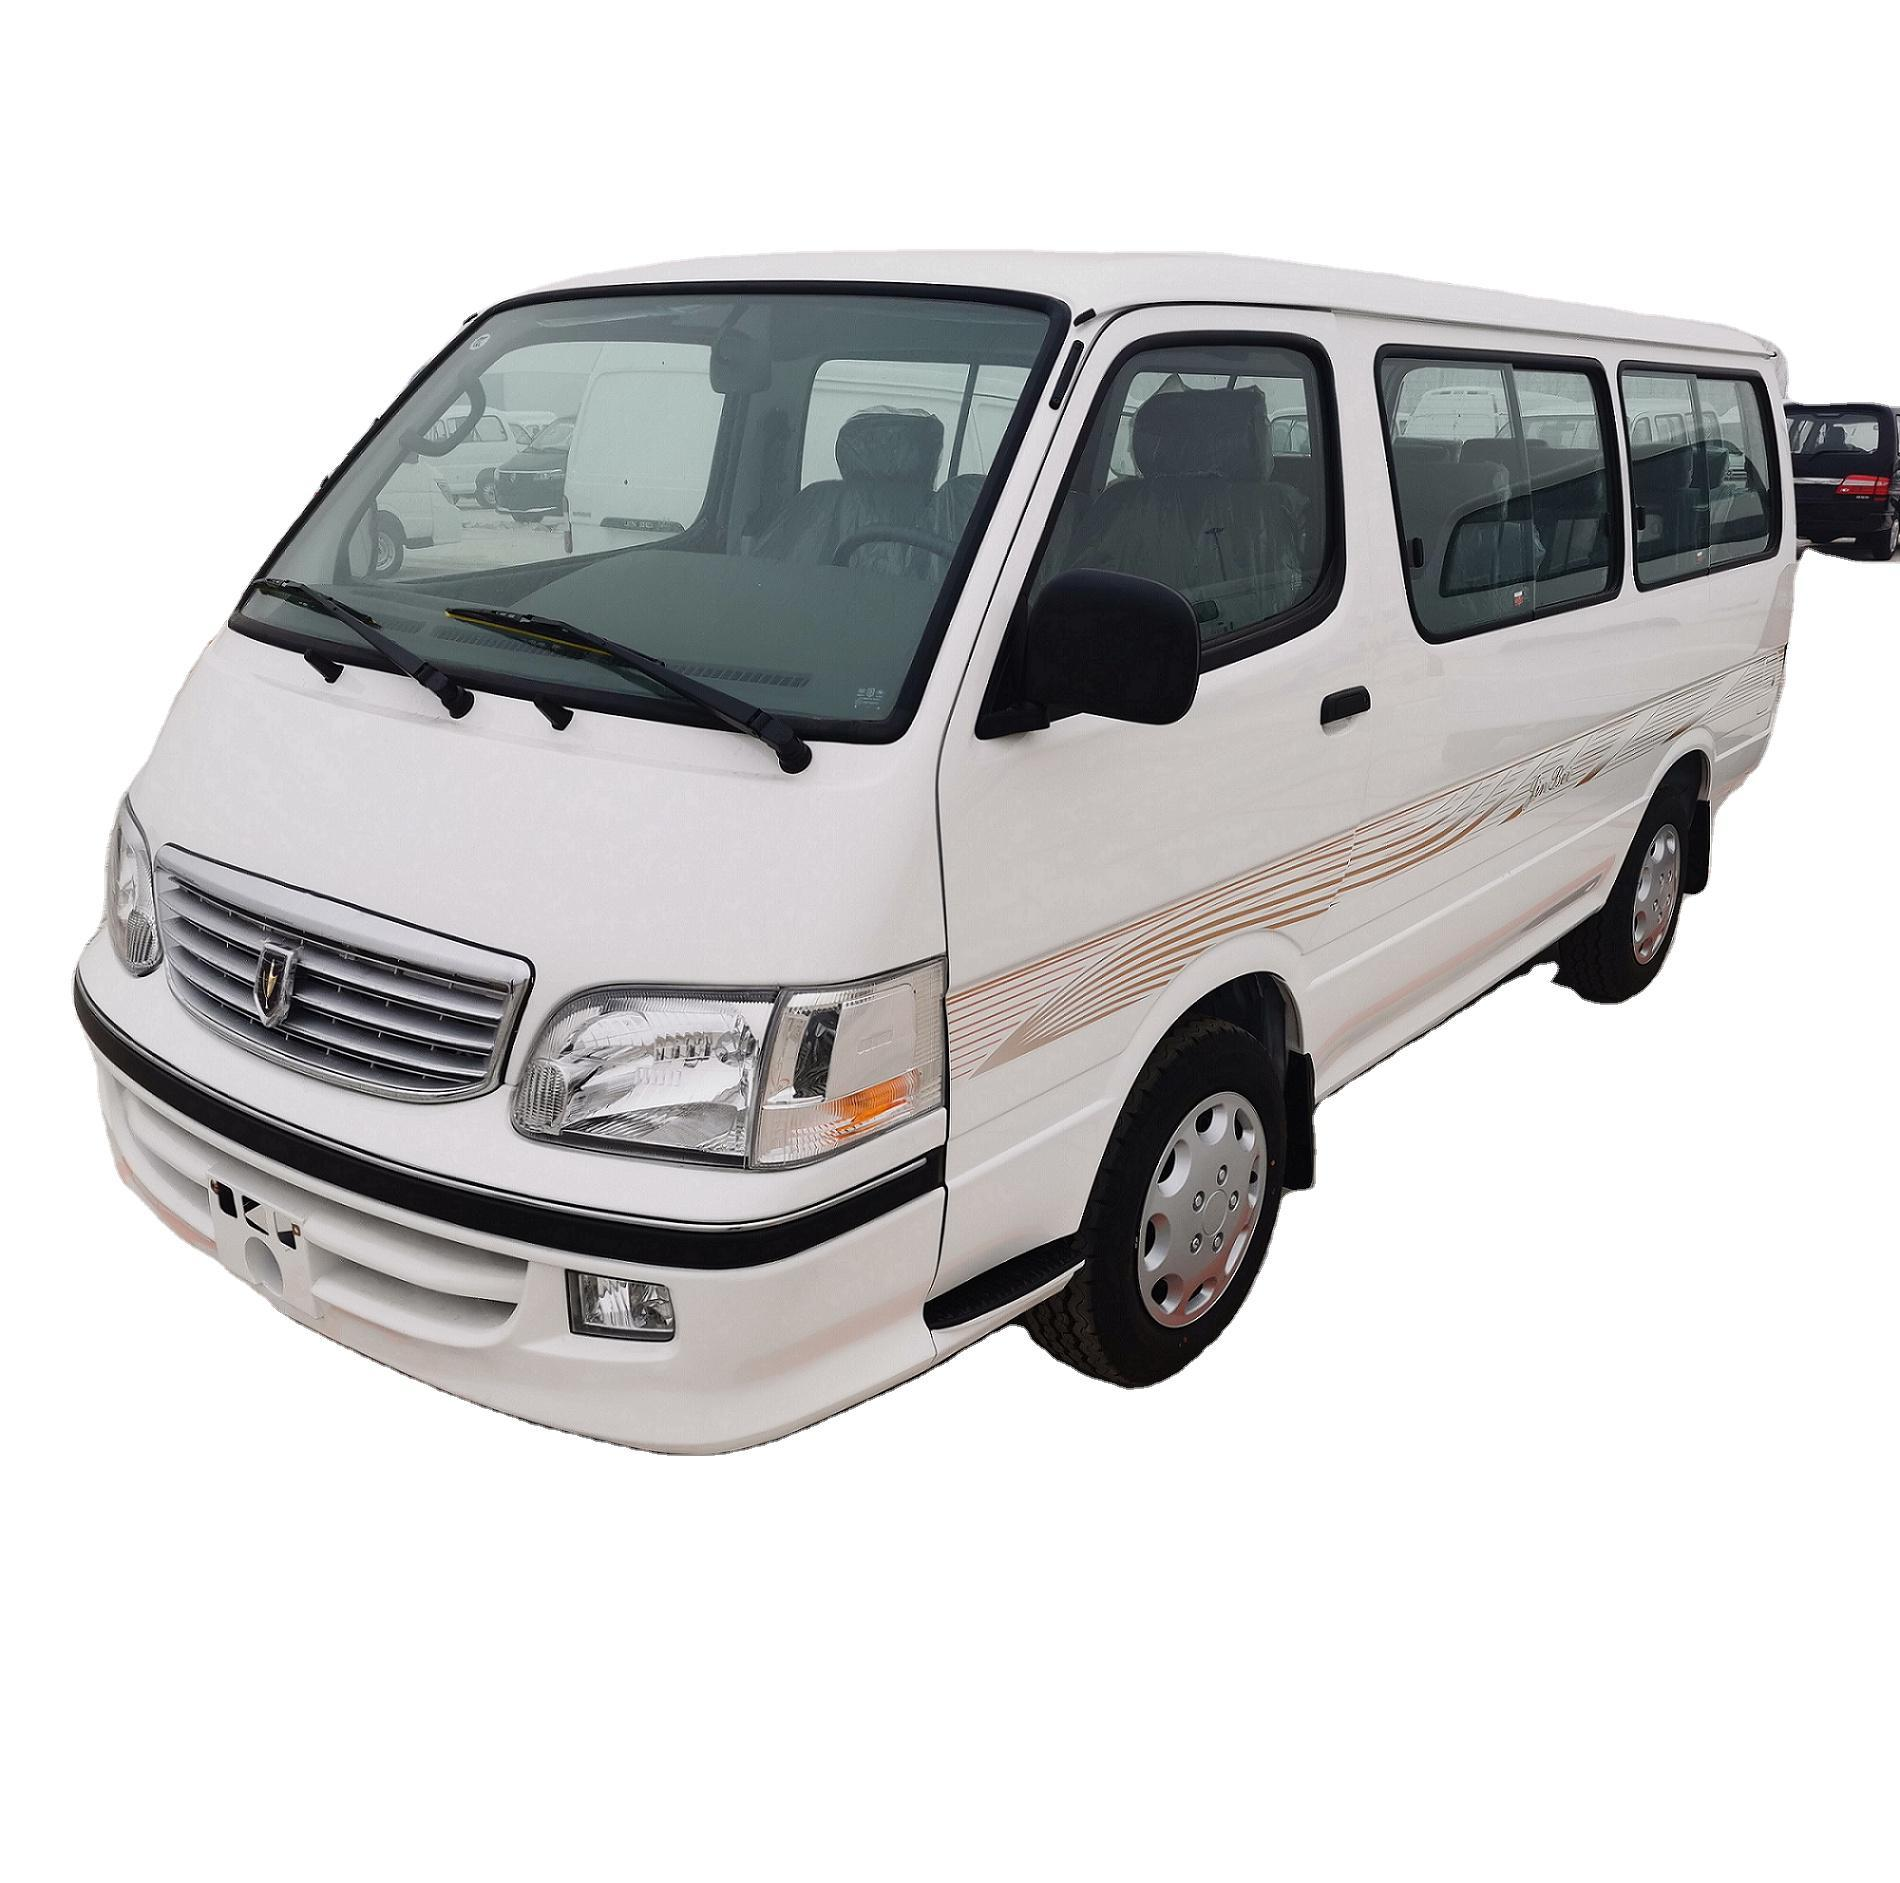Van: (86, 224, 1850, 1511)
